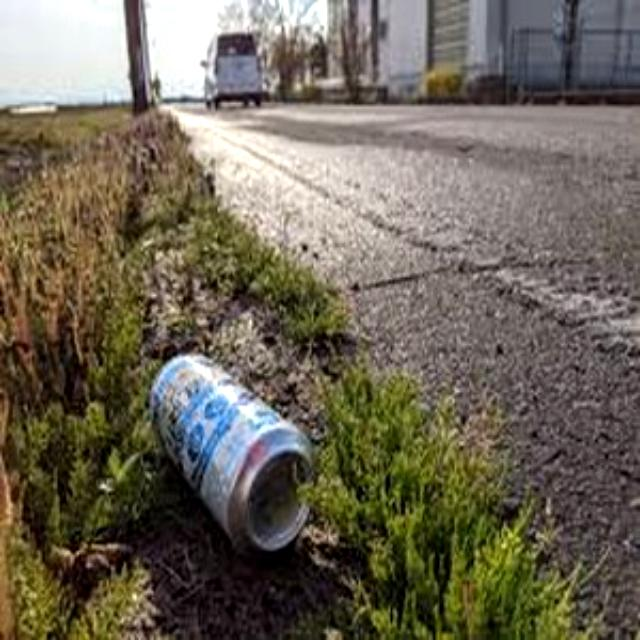Metal: (154, 338, 316, 544)
